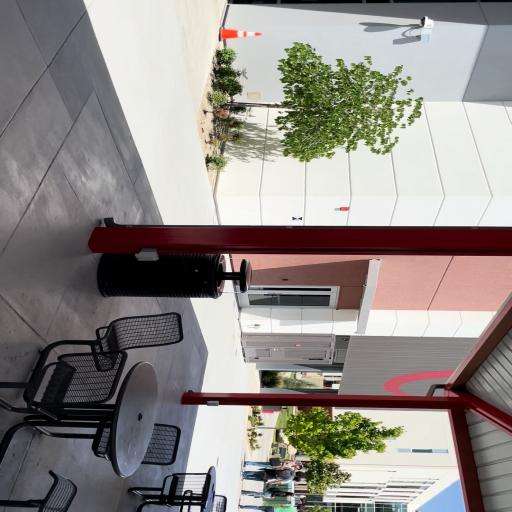target6: (292, 216, 302, 221)
